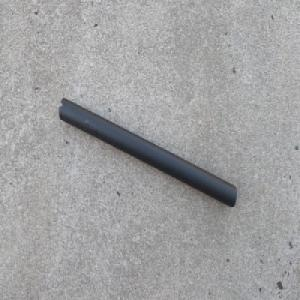LuggagePart: (57, 94, 238, 209)
